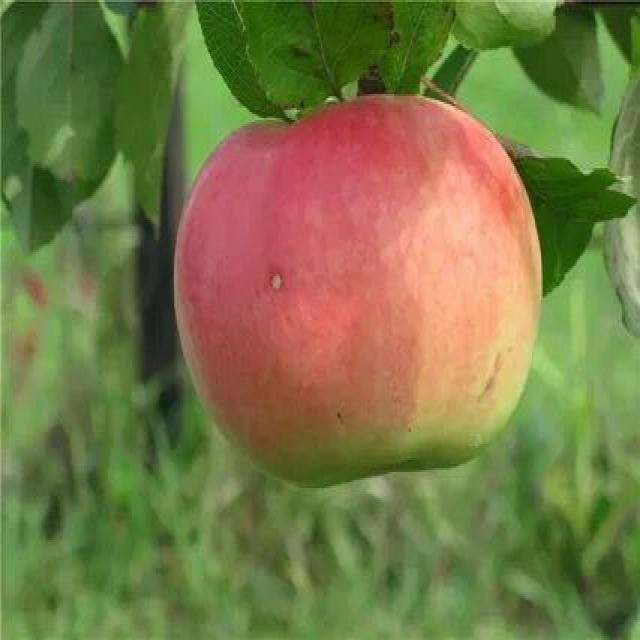Healty Apple: (174, 93, 539, 489)
